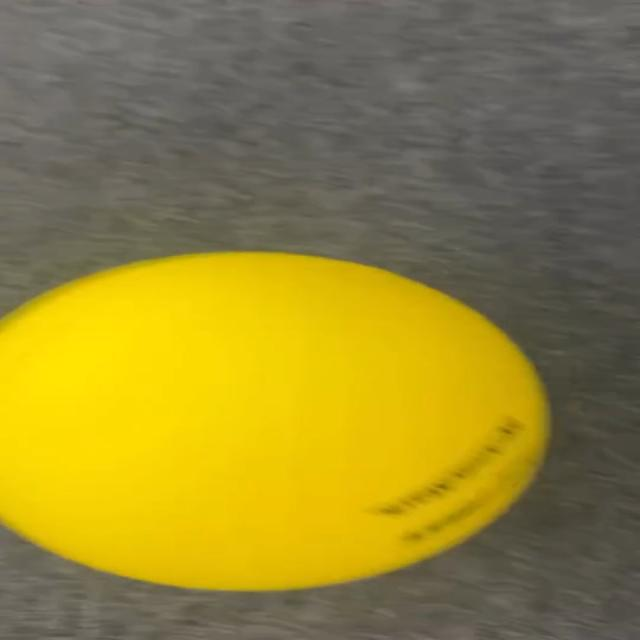Fuels: (3, 252, 550, 588)
